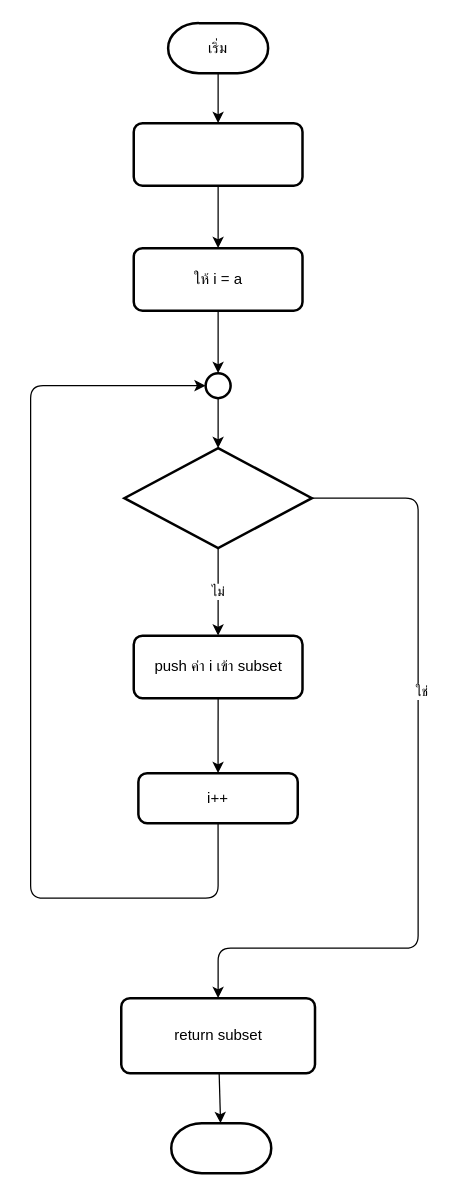
The diagram is 450 pixels wide and 1195 high, and some of its shapes have lost their labels. Each missing label, with the centre of its shape:
"i <= b หรือไม่" goes at point 217,497.
"จบ" goes at point 220,1147.
"รับ parameter a, b" goes at point 217,153.
